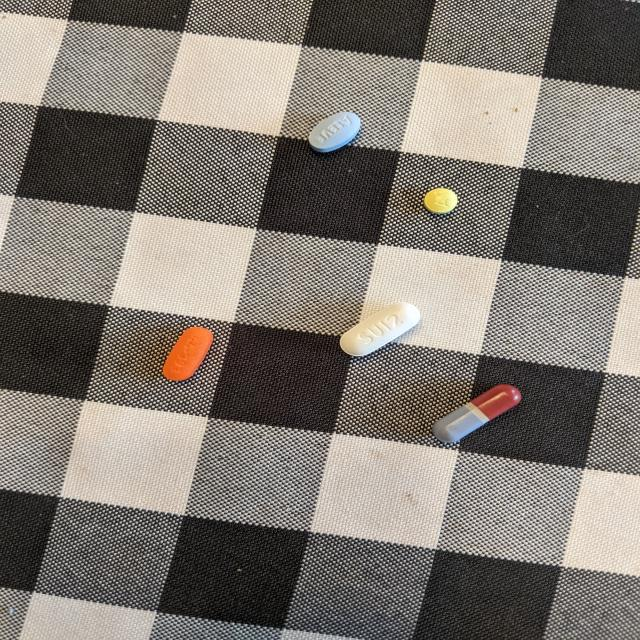non-organic waste: (431, 382, 524, 443), (339, 301, 422, 357), (162, 326, 216, 382), (308, 111, 362, 153), (423, 188, 458, 214)
